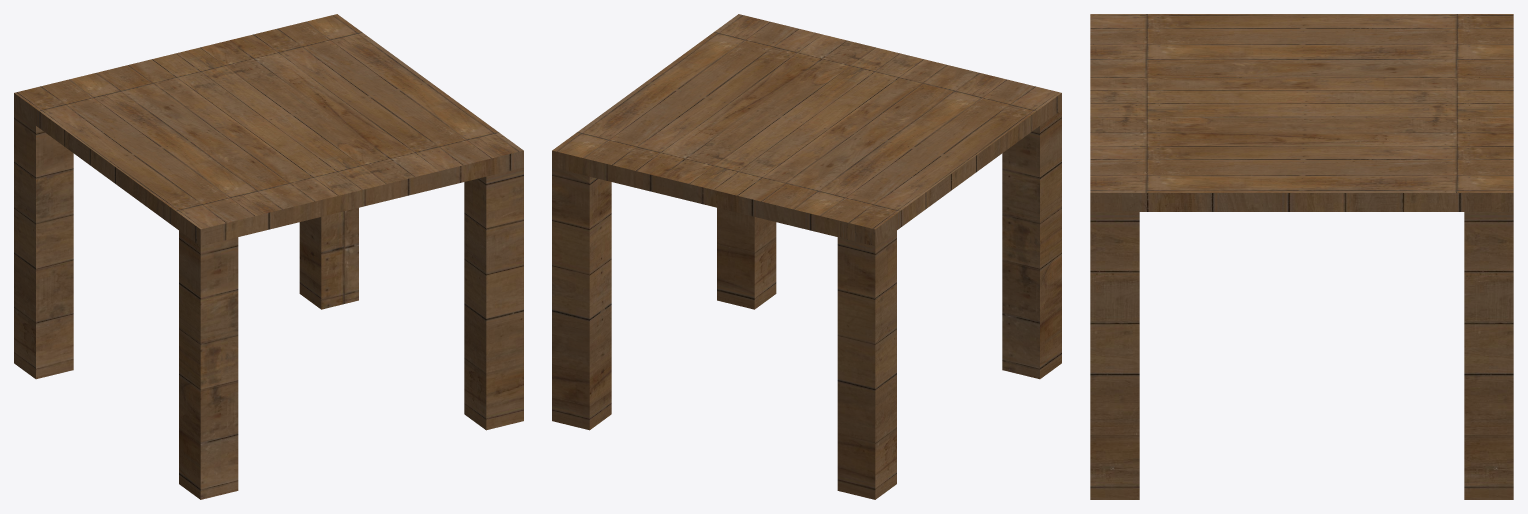
File: table.fbx
3 views of the same model, side by side, from view 1: azimuth 30°, elevation 25°; view 2: azimuth 150°, elevation 25°; view 3: azimuth 270°, elevation 25° (orthographic). The views are drawn at different scales.
Visible parts, largest first — view 1: Cube; view 2: Cube; view 3: Cube.
Boxes of the visible parts, x1,y1,x2,y2 form: Cube: [14, 14, 523, 499]; Cube: [552, 14, 1061, 499]; Cube: [1090, 14, 1513, 499].
Bounding box in the file's own units: 400 × 320 × 400.
